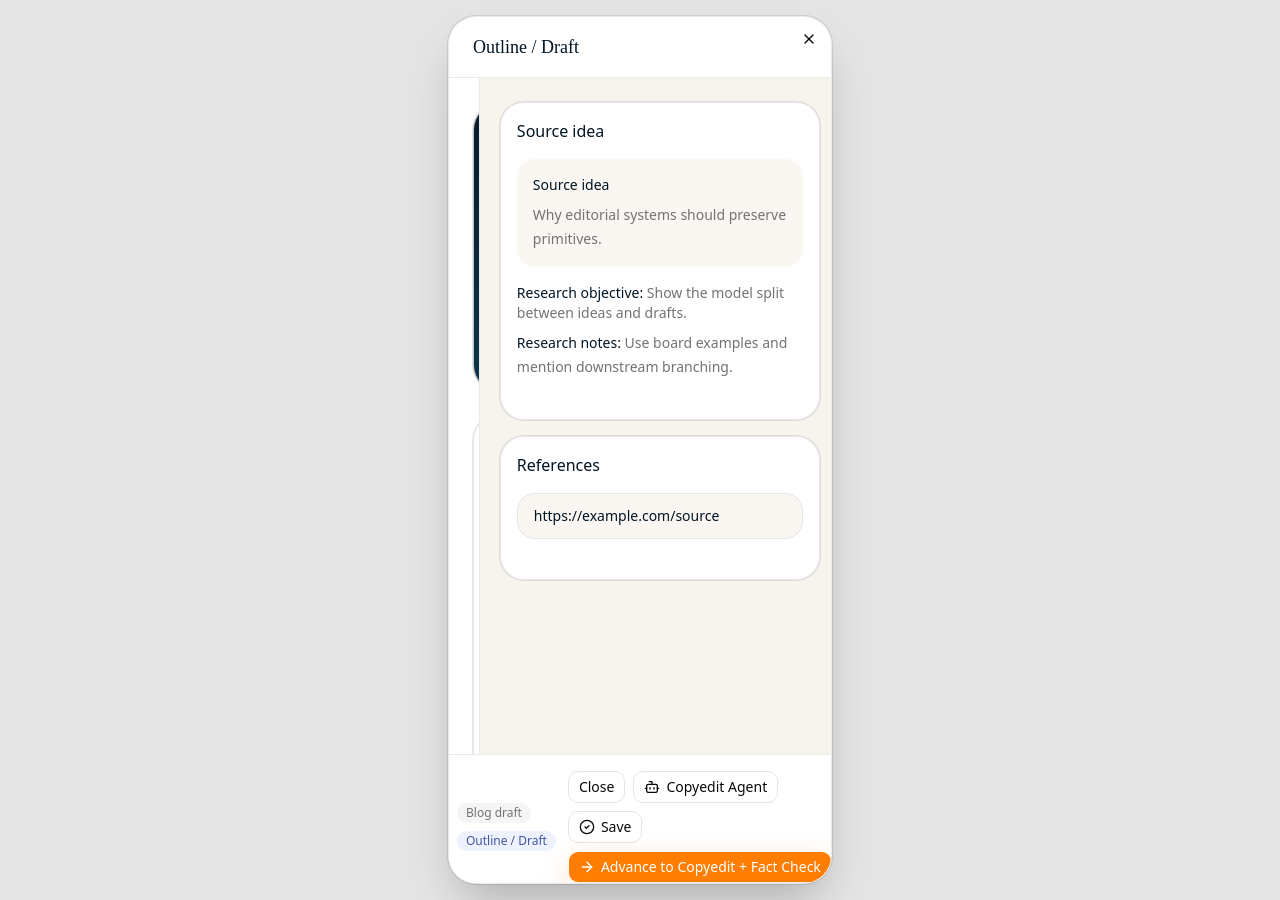
Scenario: WorkflowDraftEditor › opens a gate modal when the next stage check blocks advancement
What coordinates should you click on to do the following:
click the button "Advance to Copyedit + Fact Check"
I would click on:
 (700, 867)
Its box is [568,851,832,883].
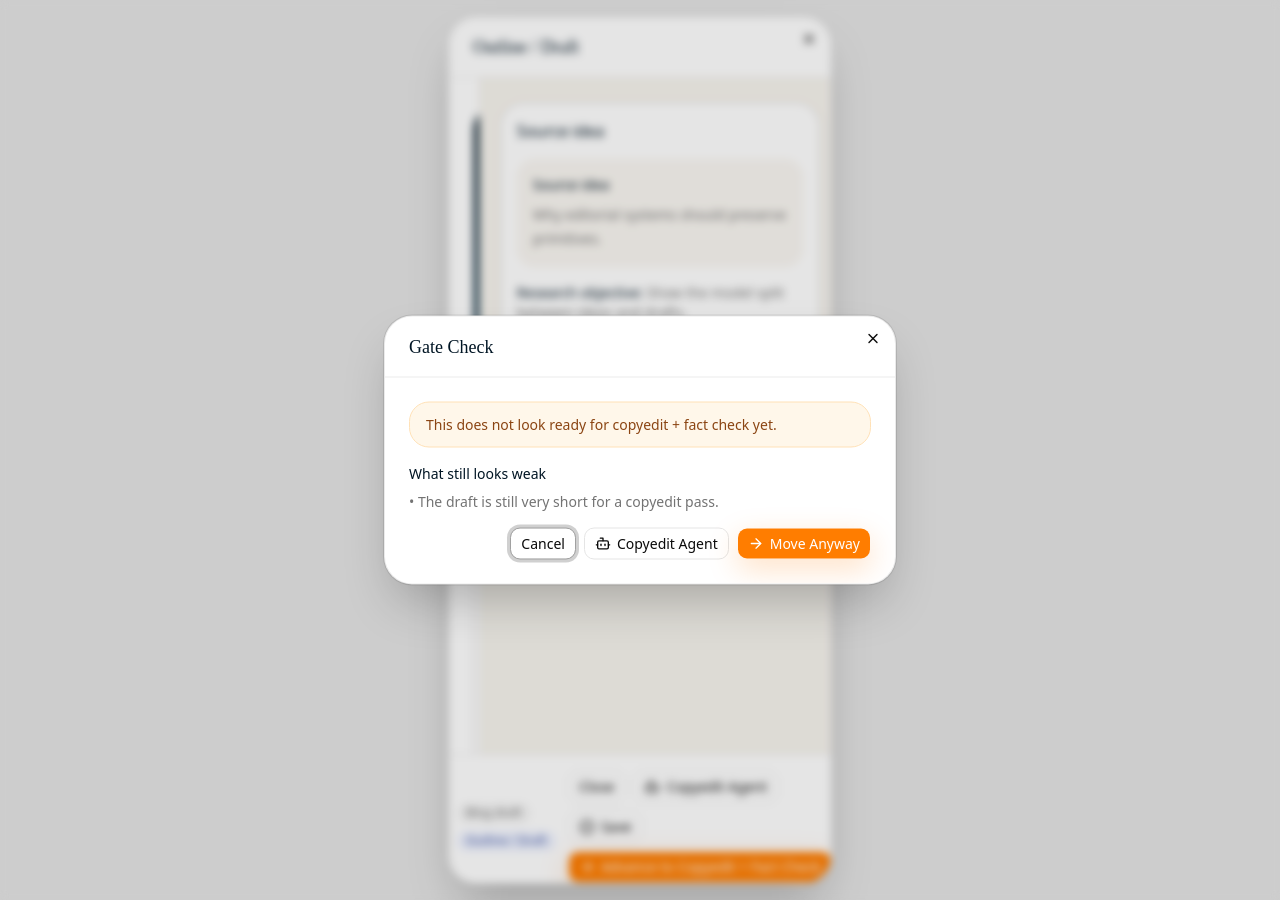
Result: the text "This does not look ready for copyedit + fact check yet." is shown at [409,402,871,448]
